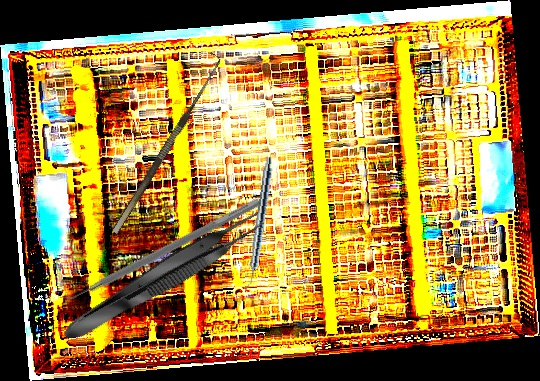Handpiece: (243, 155, 275, 293)
Hook Surgical: (102, 51, 226, 235)
Spatula Surgical: (54, 189, 263, 311)
Tissue Forceps: (56, 203, 270, 350)
